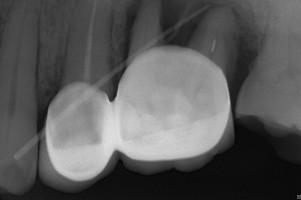Dental Caries: (162, 1, 259, 67), (121, 0, 142, 64)
